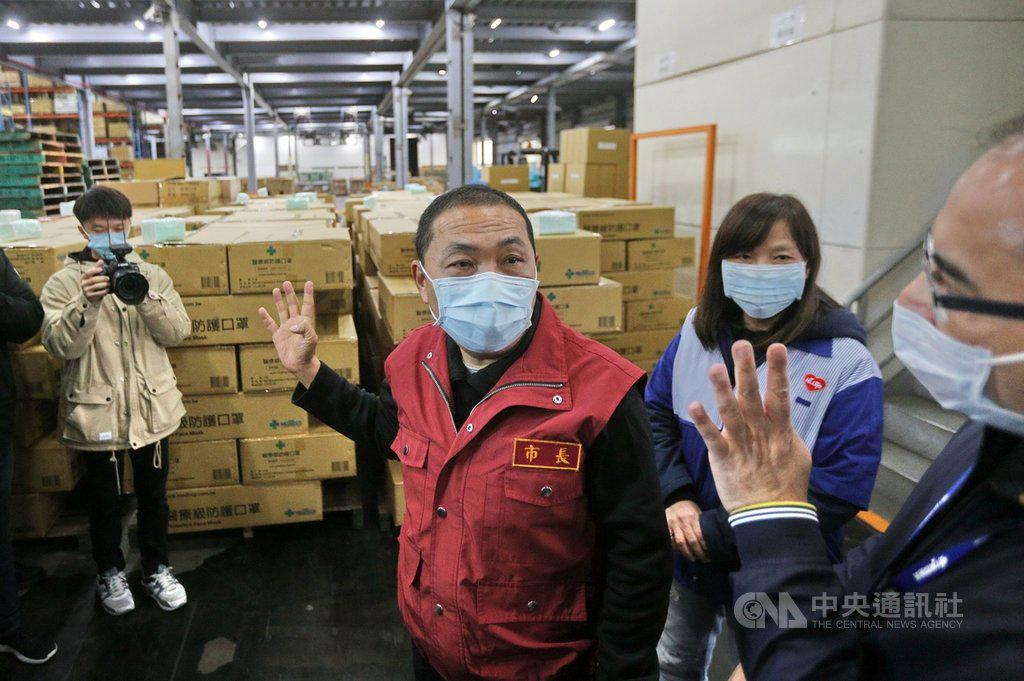mask: (887, 222, 1024, 437), (425, 231, 539, 356), (718, 241, 808, 320), (86, 221, 130, 262)
